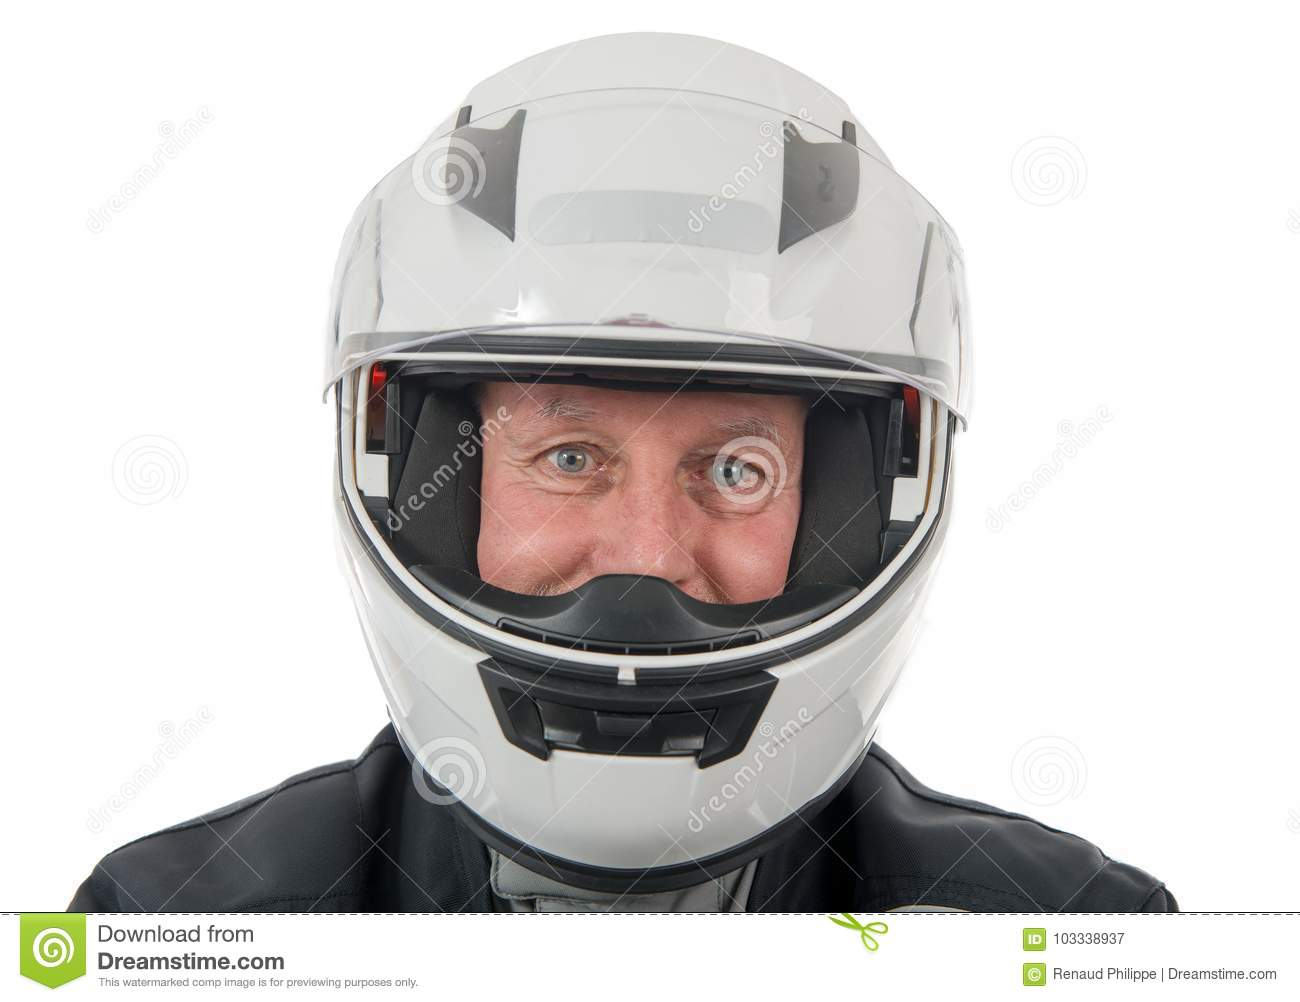helmet: (313, 137, 975, 878)
